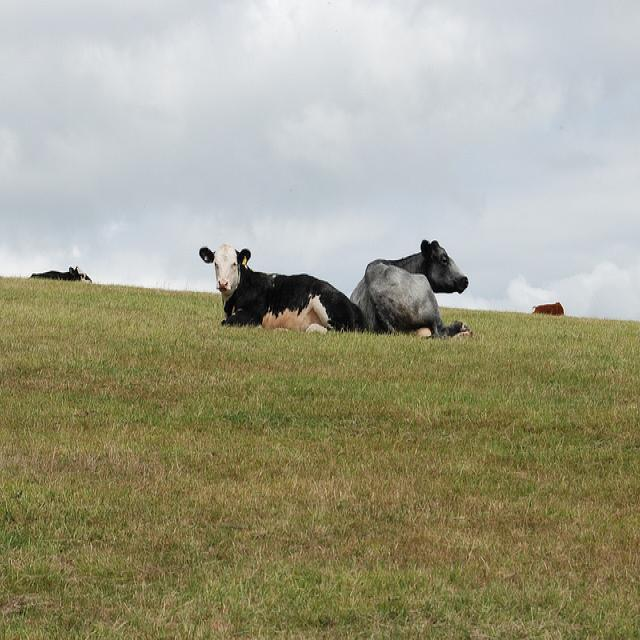cow: (196, 243, 364, 332), (348, 228, 471, 332), (29, 266, 94, 282), (530, 300, 563, 312)
